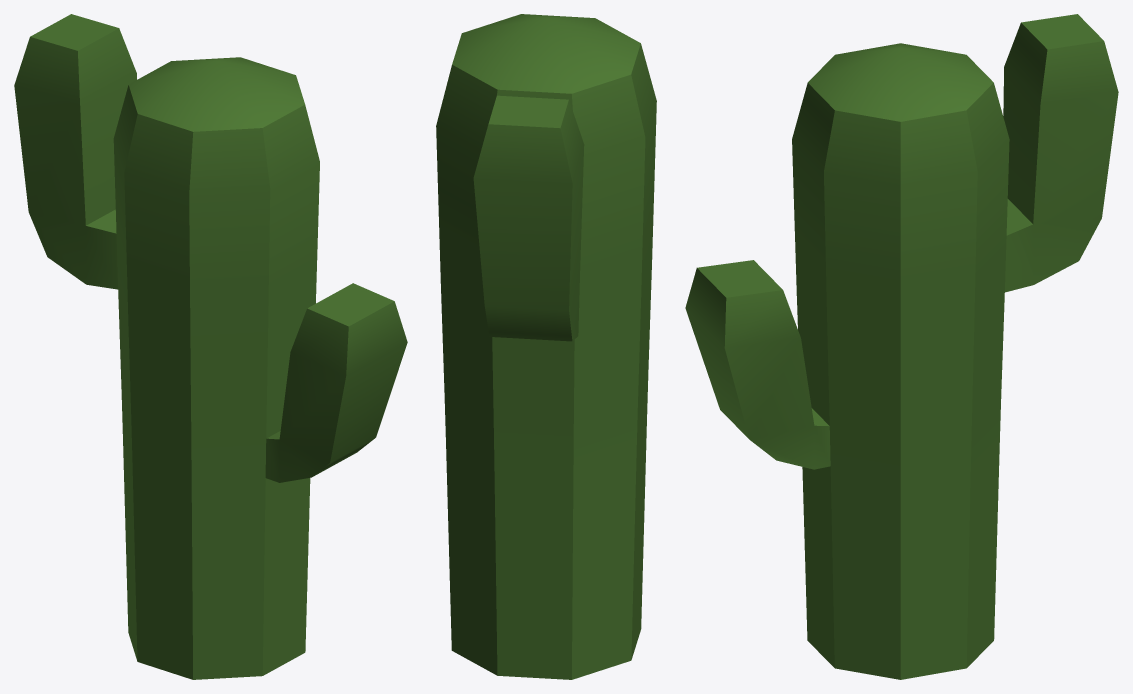
The model's file is D.cactus2.fbx.
3 renders of one model, left to right at view 1: azimuth 30°, elevation 25°; view 2: azimuth 150°, elevation 25°; view 3: azimuth 270°, elevation 25°, orthographic. The views are drawn at different scales.
Parts seen in each view (by area): view 1: pasted__pCylinder19; view 2: pasted__pCylinder19; view 3: pasted__pCylinder19.
Boxes of the visible parts, bbox=[...] form: pasted__pCylinder19: bbox=[14, 14, 407, 679]; pasted__pCylinder19: bbox=[436, 14, 656, 679]; pasted__pCylinder19: bbox=[685, 14, 1118, 679].
Size of the model in its own units: 1.23 by 3.15 by 2.08.
